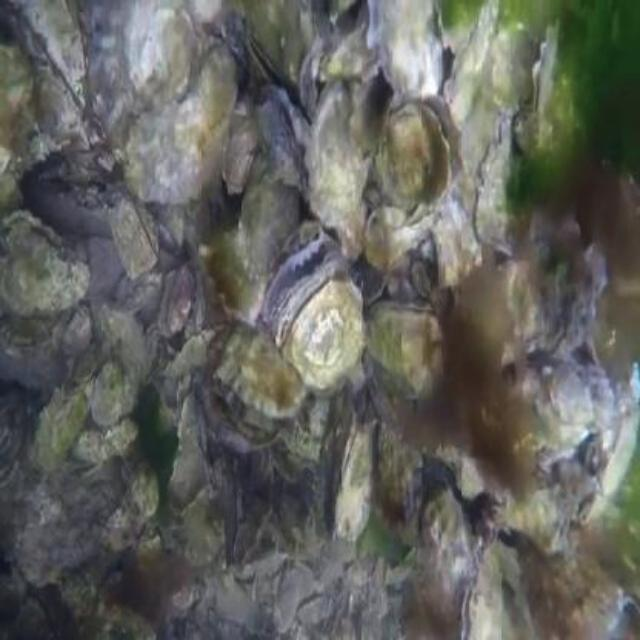Oyster-Closed: (121, 43, 238, 206), (0, 0, 89, 153), (303, 73, 369, 225), (0, 45, 53, 200), (473, 119, 531, 255), (126, 0, 195, 111), (240, 153, 298, 277), (419, 487, 470, 617), (366, 303, 436, 389), (199, 225, 261, 319), (34, 373, 92, 473), (559, 244, 608, 357), (334, 412, 377, 536), (374, 416, 421, 523), (492, 488, 567, 553), (256, 103, 304, 198), (490, 23, 539, 115), (109, 196, 160, 278), (182, 485, 226, 574), (460, 554, 504, 640), (553, 366, 611, 429), (435, 0, 485, 52), (224, 117, 257, 194), (533, 17, 559, 113), (92, 362, 124, 428), (54, 300, 93, 353), (301, 38, 322, 122), (117, 268, 157, 306), (134, 535, 162, 562), (0, 425, 11, 451)
Oyster-Open: (263, 225, 367, 396), (214, 321, 303, 444), (376, 94, 463, 209), (0, 211, 93, 315), (367, 0, 444, 100), (249, 37, 307, 124)
